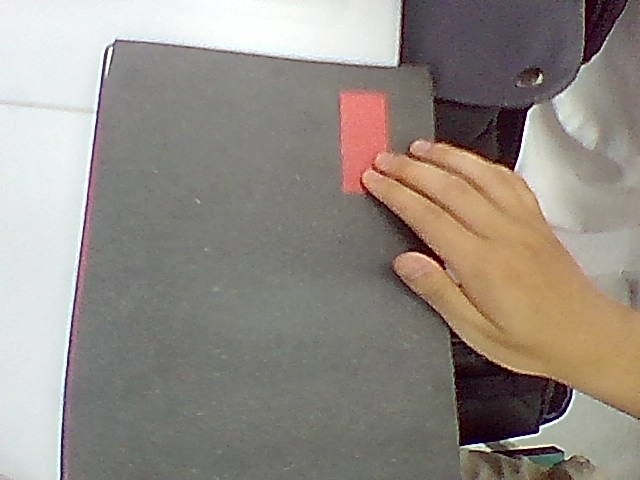card: (340, 91, 388, 190)
